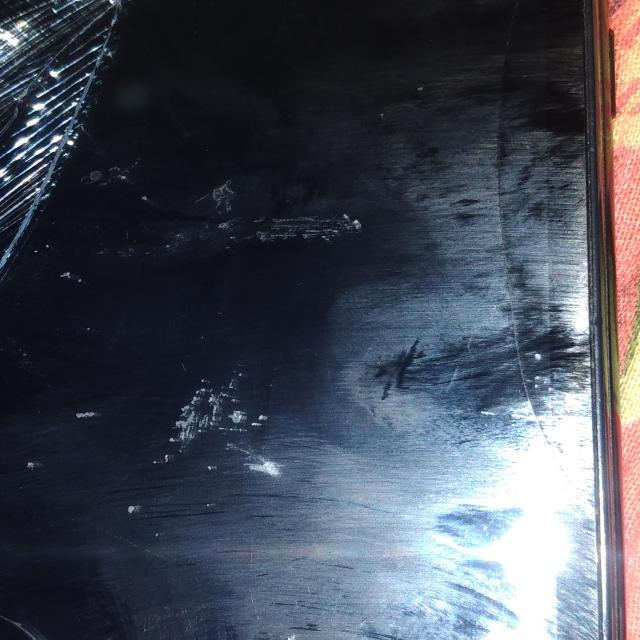Scratches: (152, 365, 278, 488), (144, 203, 373, 266)
